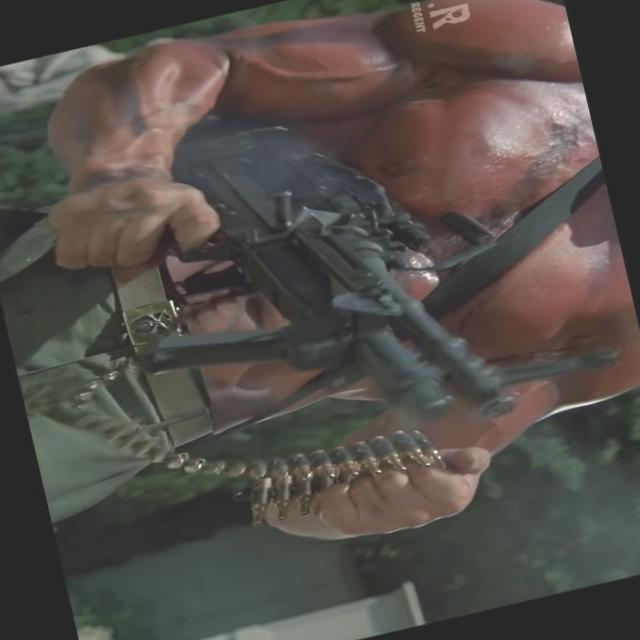long weapon: (55, 20, 577, 531)
